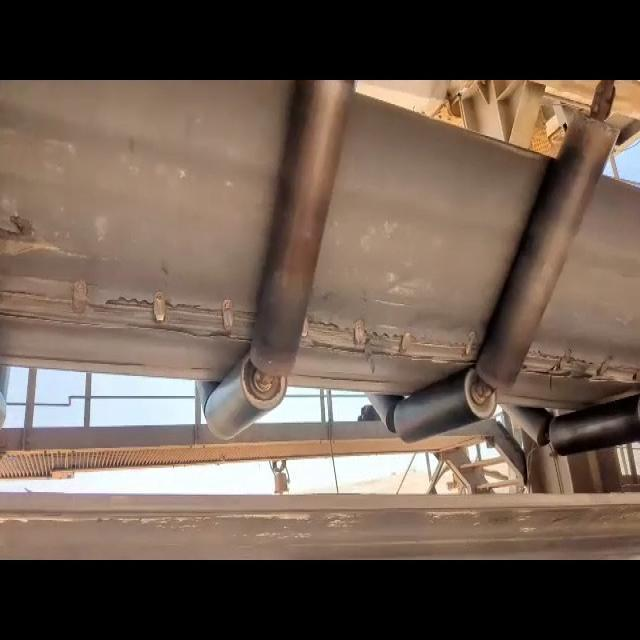Tear: (0, 274, 261, 352), (294, 312, 483, 370), (524, 337, 640, 387)
Wear: (0, 207, 91, 268)
